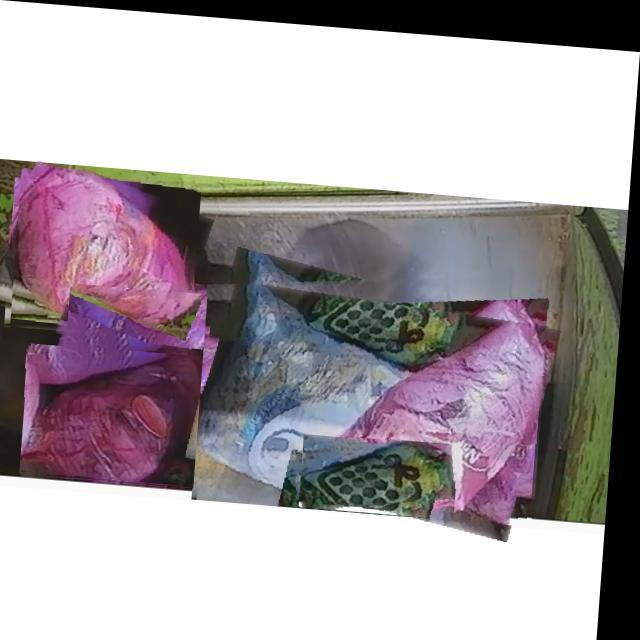general_trashbag: (307, 434, 460, 503)
other_trashbag: (204, 272, 549, 511), (214, 267, 397, 493), (21, 167, 190, 341), (30, 353, 223, 480), (73, 283, 267, 398)
